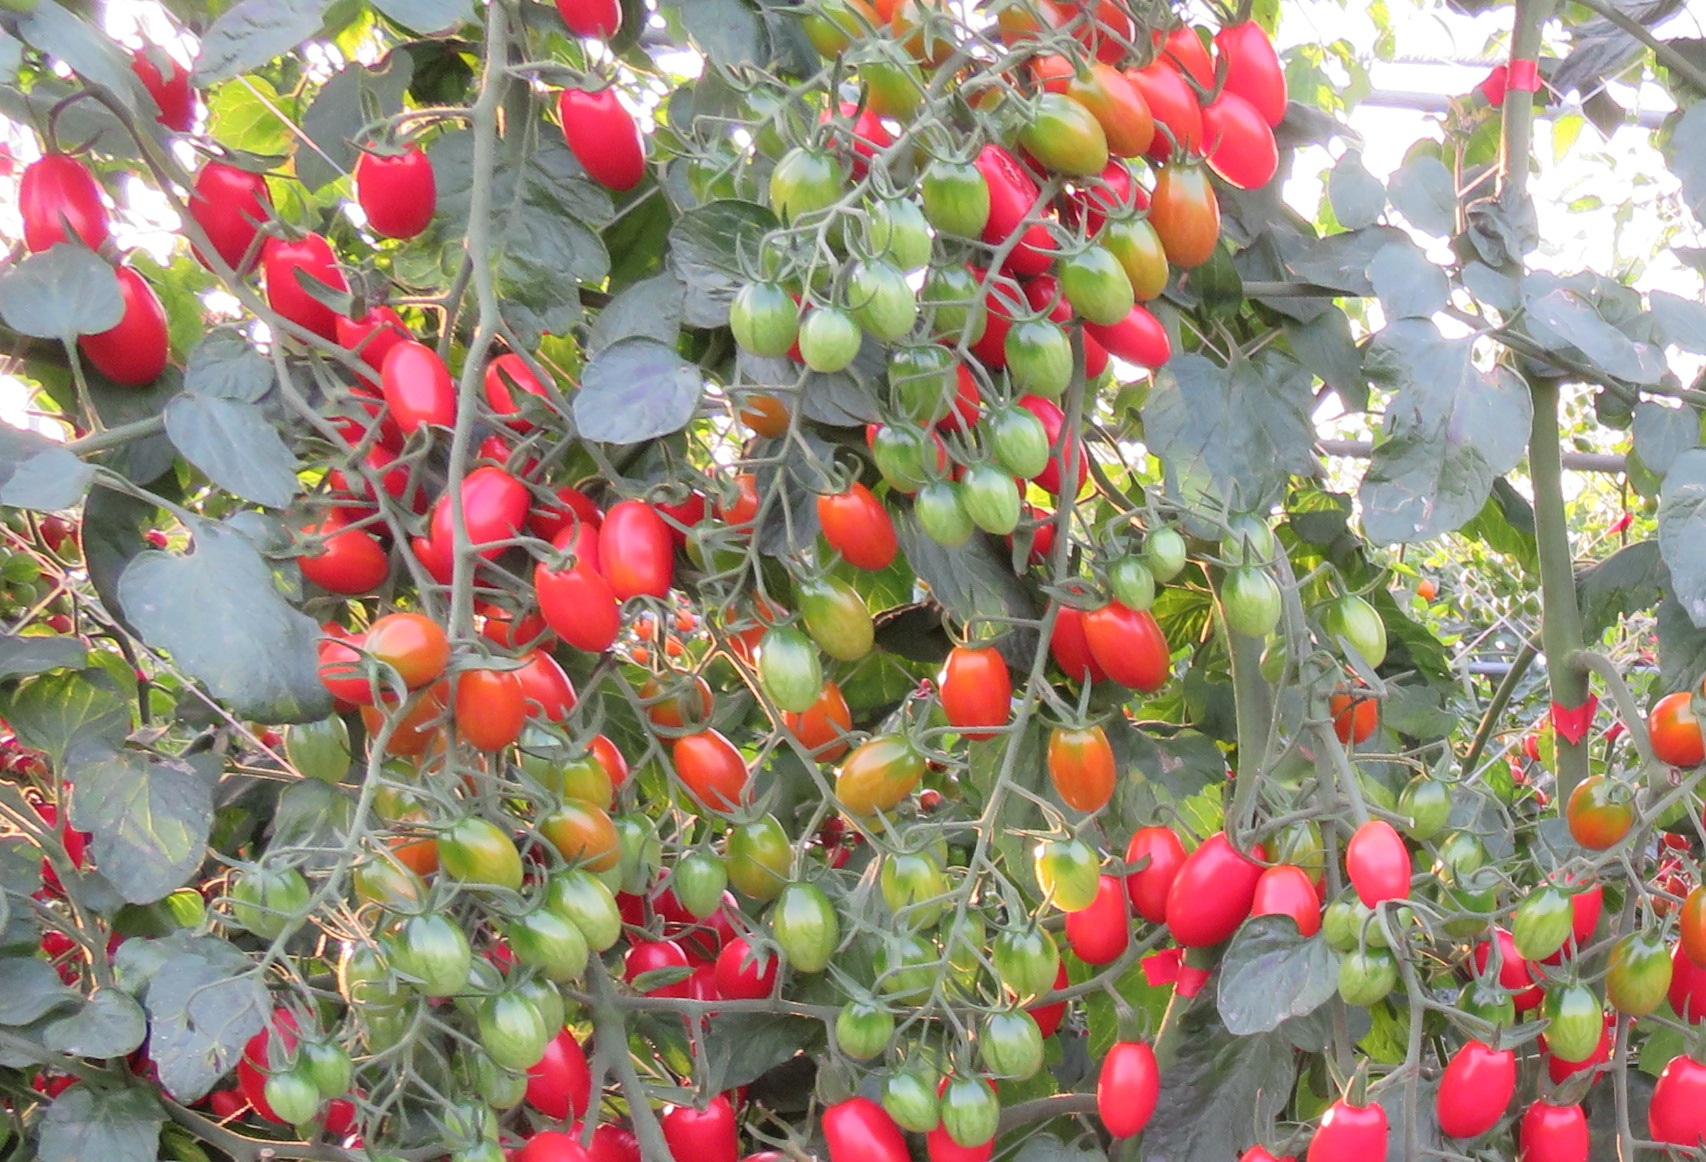green: (832, 737, 917, 824), (506, 910, 591, 988), (799, 576, 879, 658), (911, 160, 994, 239), (847, 44, 929, 122), (1031, 108, 1114, 184), (914, 268, 994, 346), (870, 856, 950, 932), (722, 820, 796, 903), (1601, 934, 1670, 1022), (884, 346, 961, 424), (397, 913, 471, 993), (439, 824, 525, 892), (774, 884, 837, 975), (1003, 318, 1077, 396), (1054, 258, 1138, 326), (758, 626, 824, 712), (849, 258, 920, 337), (866, 940, 944, 1010), (976, 409, 1047, 482), (477, 999, 548, 1071), (859, 198, 931, 271), (1034, 840, 1102, 916), (974, 1012, 1044, 1083), (730, 287, 801, 357), (560, 881, 626, 953), (765, 154, 841, 217), (1512, 890, 1572, 967), (867, 428, 935, 498), (996, 929, 1060, 1001), (939, 1071, 999, 1148), (909, 486, 976, 552), (1217, 572, 1283, 639), (1331, 602, 1390, 674), (958, 473, 1024, 536), (799, 306, 866, 367), (1548, 993, 1607, 1060), (1401, 769, 1455, 842), (266, 1060, 318, 1133), (673, 849, 726, 921), (835, 1000, 891, 1065), (879, 1076, 939, 1133), (1335, 958, 1395, 1006), (1112, 565, 1164, 613), (1143, 536, 1191, 584)
orange: (360, 608, 458, 689), (1088, 608, 1180, 693), (1156, 169, 1222, 271), (1076, 70, 1154, 157), (817, 488, 897, 567), (1042, 728, 1114, 812), (666, 734, 754, 799), (942, 648, 1012, 729), (455, 674, 532, 747), (1566, 777, 1632, 853), (1646, 687, 1705, 763), (1322, 686, 1385, 750), (1676, 886, 1706, 960)
red: (416, 468, 526, 575), (1162, 831, 1263, 945), (181, 162, 277, 274), (554, 89, 648, 193), (262, 236, 347, 350), (595, 501, 684, 598), (1427, 1048, 1518, 1139), (18, 157, 111, 245), (530, 560, 624, 648), (353, 156, 441, 243), (1208, 96, 1283, 192), (1217, 29, 1302, 114), (526, 1032, 604, 1122), (1092, 1041, 1162, 1139), (292, 528, 390, 591), (478, 351, 556, 432), (379, 336, 450, 421), (1348, 820, 1416, 907), (1072, 878, 1134, 966), (815, 1102, 906, 1162), (1302, 1101, 1391, 1159), (662, 1102, 745, 1162), (1650, 1061, 1706, 1140), (1125, 825, 1168, 925), (88, 337, 170, 386), (1518, 1108, 1588, 1162), (121, 268, 174, 329), (1259, 865, 1318, 917), (556, 1, 627, 44)
